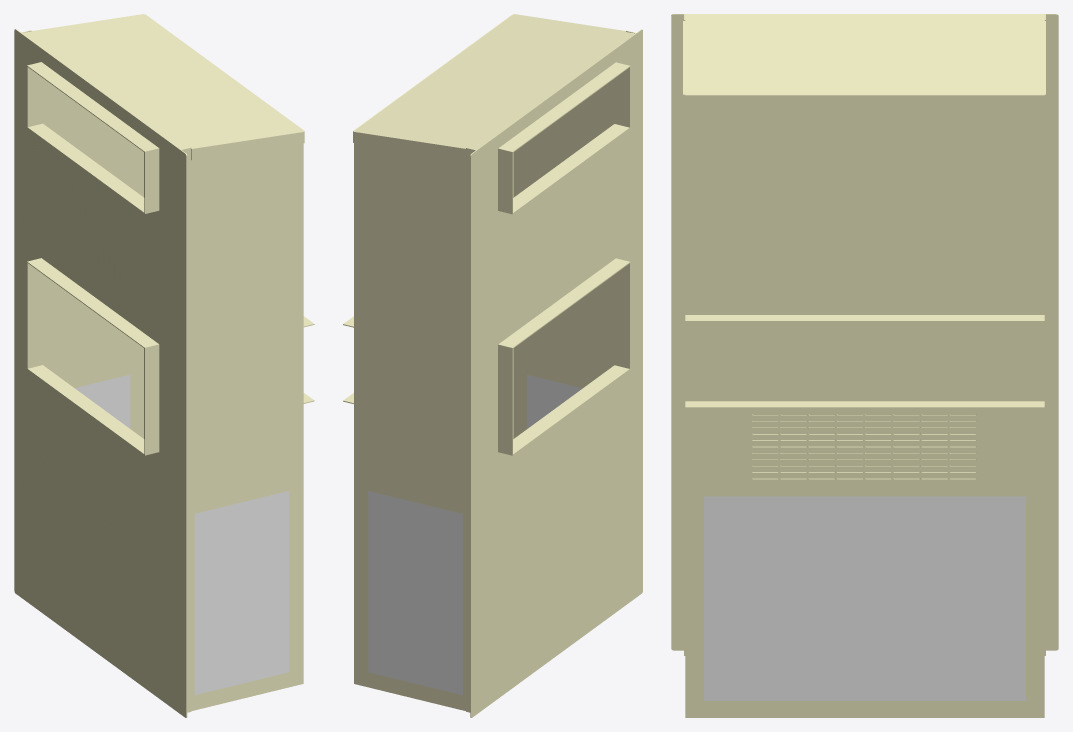
The model's file is AST-HVAC.glb.
The picture shows the model from 3 angles, left to right: view 1: azimuth 30°, elevation 25°; view 2: azimuth 150°, elevation 25°; view 3: azimuth 270°, elevation 25°; orthographic projection. The views are drawn at different scales.
Parts seen in each view (by area): view 1: AST-HVAC; view 2: AST-HVAC; view 3: AST-HVAC.
Boxes of the visible parts, x1,y1,x2,y2 form: AST-HVAC: (14,14,314,717); AST-HVAC: (343,14,642,717); AST-HVAC: (671,14,1058,717).
Size of the model in its own units: 0.5232 by 1.89 by 1.05.
